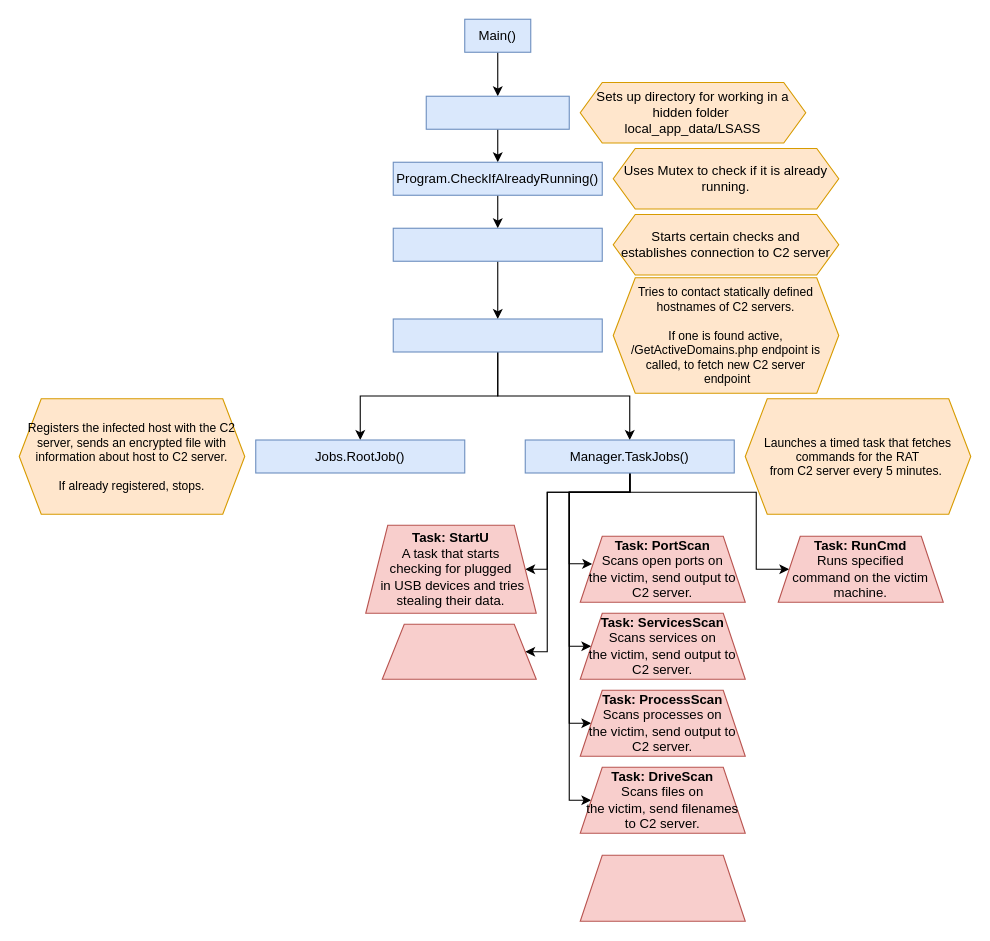
This 990x941 diagram has some shape labels left out. The shapes that lost their labels are listed below. From the top down, each one's centre as x and y in pixels, then its label:
At point 497,112: "Program.Initialize()".
At point 497,244: "Services.Start(args)".
At point 497,335: "DomainController.Start()".
At point 458,651: "Task: StopU Stops USB checking behavior.".
At point 662,887: "Task: DriveUpload Uploads files that were found by DriveScan task.".
